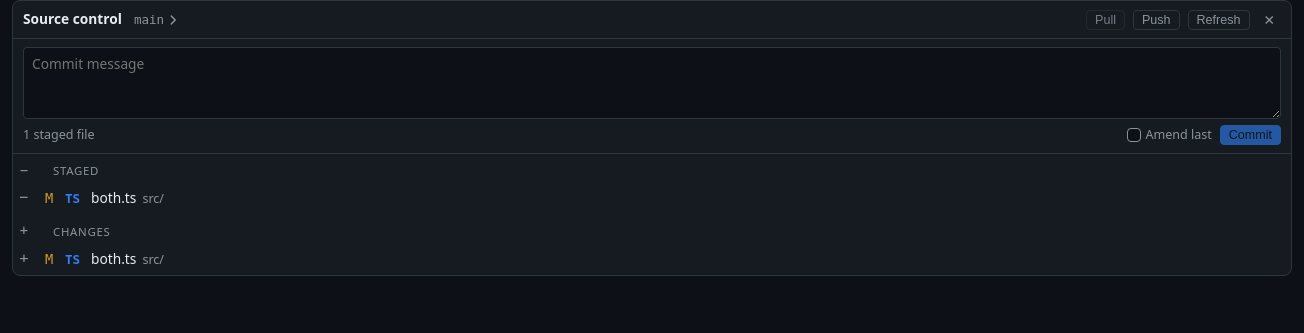
opening a file to its diff › opens one side without opening the other
The image size is (1304, 333).
Click the 1st button "M TS both.ts src/" at (114, 198), box [35,185,1291,210]
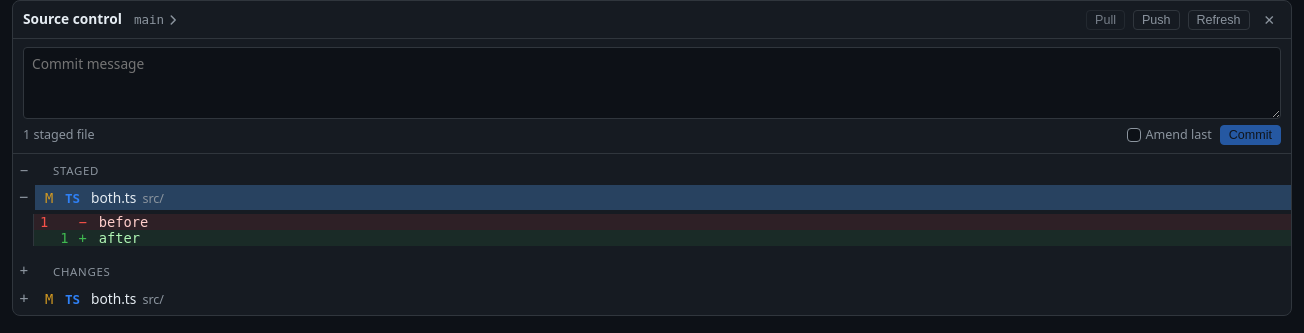
Now the number of elements with class "tool-diff" is 1, box [33,214,1291,246]
